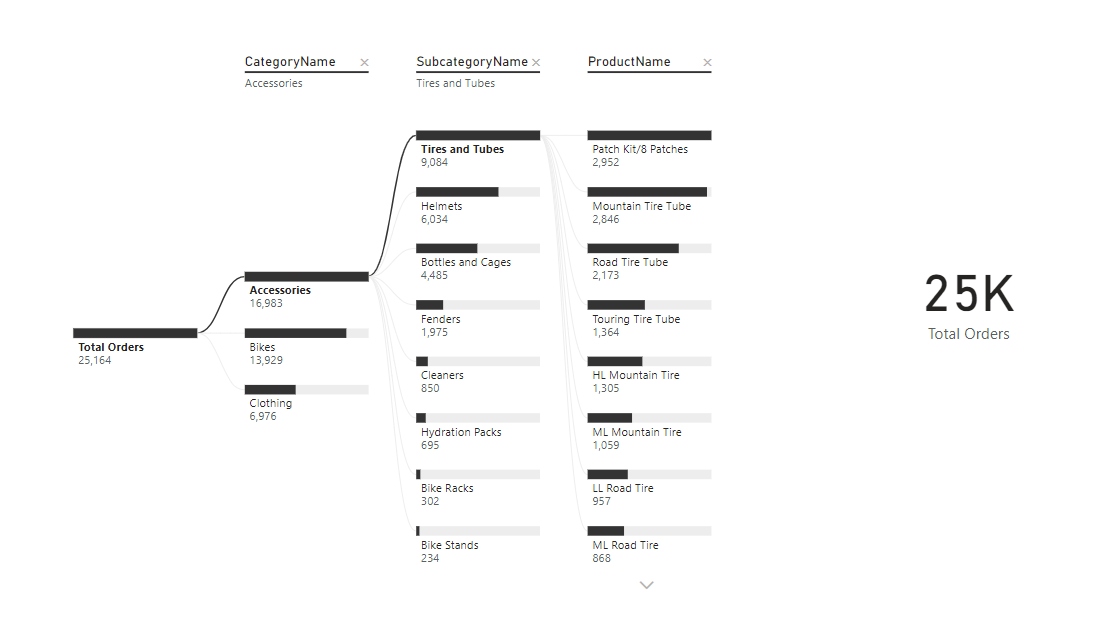

The page's visual inventory and layout, read from the dashboard file:
{"tool":"powerbi","page":{"name":"Decomposition Tree","canvas":[1280,720],"ordinal":6},"visuals":[{"type":"decompositionTreeVisual","fields":{"ExplainBy":["Product Categories Lookup.CategoryName","Product Subcategories Lookup.SubcategoryName","Product Lookup.ProductName"],"Analyze":["Measure Table.Total Orders"]},"box":[64.4,55.4,773.1,597.9],"z":0},{"type":"card","fields":{"Values":["Measure Table.Total Orders"]},"box":[894.1,204.6,280.3,243],"z":1000}]}

Visuals, with their boxes in screenshot pixels (x1, y1, x2, y2), scaled from the page's 1280x720 canvas onto the 1102x625 screenshot:
decompositionTreeVisual - Product Categories Lookup.CategoryName x Product Subcategories Lookup.SubcategoryName: pyautogui.locateOnScreen(55, 48, 721, 567)
card - Measure Table.Total Orders: pyautogui.locateOnScreen(770, 178, 1011, 389)
